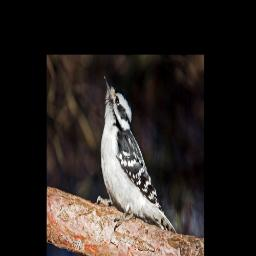Woodpecker: (94, 73, 176, 234)
